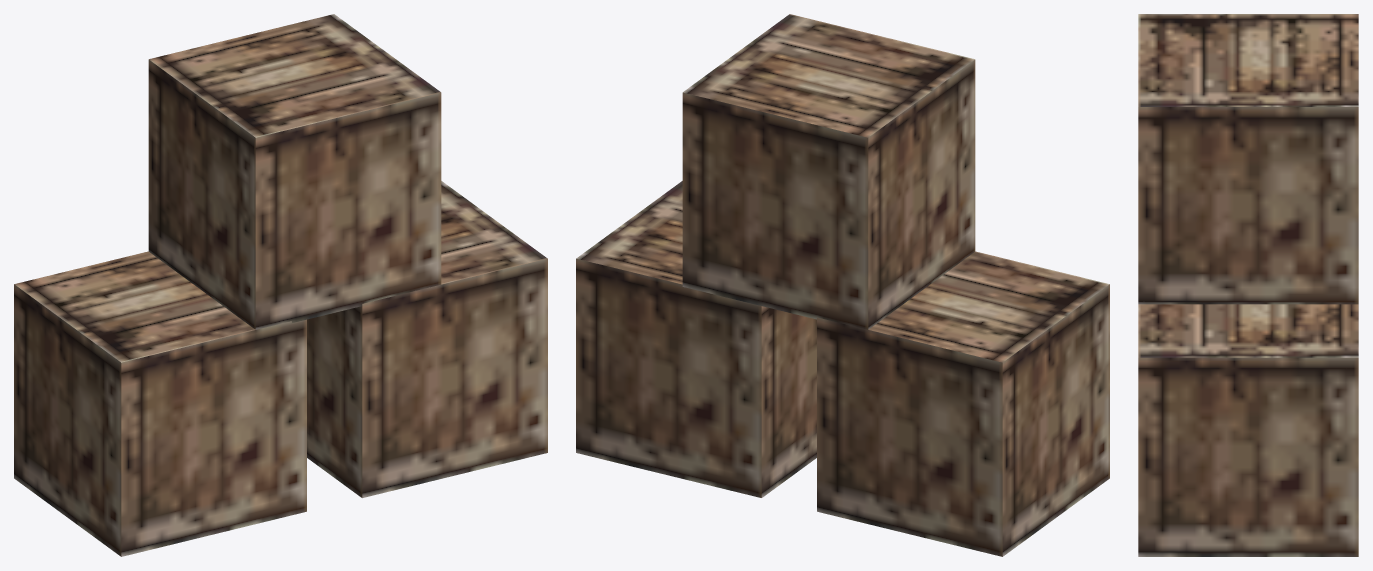
Rendered from Box_Pile.dae.
3 views of the same model, side by side, from view 1: azimuth 30°, elevation 25°; view 2: azimuth 150°, elevation 25°; view 3: azimuth 270°, elevation 25° (orthographic). The views are drawn at different scales.
Visible parts, largest first — view 1: Object001; view 2: Object001; view 3: Object001.
Part boxes in pixels (x1=…): Object001: x1=14, y1=14, x2=547, y2=556; Object001: x1=576, y1=14, x2=1109, y2=556; Object001: x1=1138, y1=14, x2=1358, y2=556.
Bounding box in the file's own units: 2.99 × 2.59 × 1.3.
